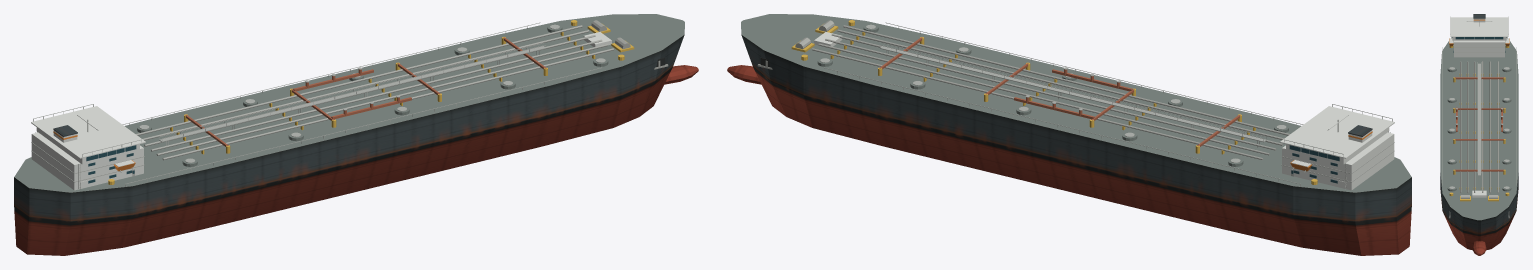
File: oil-tanker-aframax.glb
The picture shows the model from 3 angles, left to right: view 1: azimuth 30°, elevation 25°; view 2: azimuth 150°, elevation 25°; view 3: azimuth 270°, elevation 25°; orthographic projection. The views are drawn at different scales.
Visible parts, largest first — view 1: deck, upper hull, red hull, pipe, white, rail, boot top, rust, yellow, dark window; view 2: deck, upper hull, red hull, white, pipe, rail, boot top, rust, yellow, dark window; view 3: deck, white, pipe, upper hull, rail, red hull, rust, yellow, boot top, dark window, orange.
Part boxes in pixels (x1,y1,x2,y2): deck: [14, 14, 684, 192]; upper hull: [14, 35, 684, 221]; red hull: [14, 65, 698, 255]; pipe: [135, 20, 668, 160]; white: [31, 32, 611, 190]; rail: [31, 22, 605, 188]; boot top: [14, 67, 672, 224]; rust: [185, 37, 546, 146]; yellow: [108, 20, 634, 184]; dark window: [86, 145, 136, 183]; deck: [741, 14, 1411, 192]; upper hull: [741, 35, 1411, 221]; red hull: [727, 65, 1411, 255]; white: [814, 32, 1394, 190]; pipe: [757, 20, 1290, 160]; rail: [820, 22, 1394, 188]; boot top: [753, 67, 1411, 224]; rust: [879, 37, 1240, 146]; yellow: [791, 20, 1317, 184]; dark window: [1289, 145, 1339, 183]; deck: [1440, 37, 1518, 220]; white: [1449, 17, 1509, 197]; pipe: [1449, 61, 1509, 218]; upper hull: [1440, 173, 1518, 233]; rail: [1442, 16, 1516, 188]; red hull: [1444, 214, 1514, 255]; rust: [1454, 77, 1504, 171]; yellow: [1449, 45, 1509, 201]; boot top: [1443, 14, 1515, 235]; dark window: [1452, 37, 1506, 52]; orange: [1449, 19, 1509, 46].
Size of the model in its own units: 250 by 40.5 by 42.
12 materials, 3 textured.
